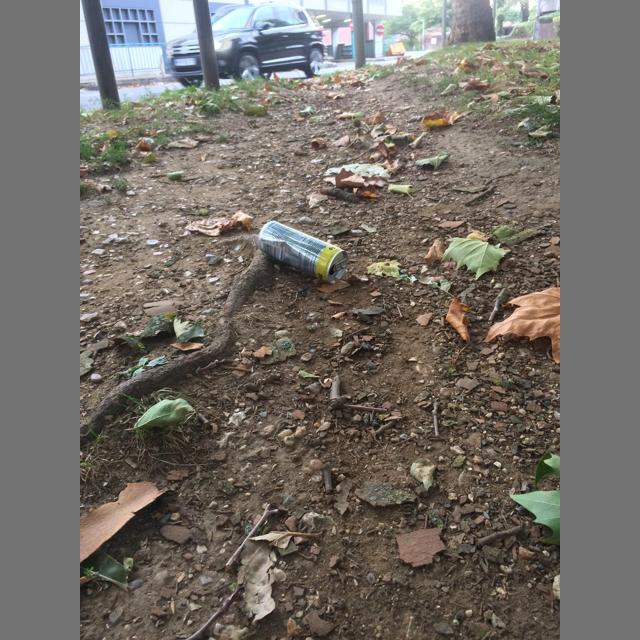litter: (258, 221, 348, 284), (333, 258, 348, 272)
